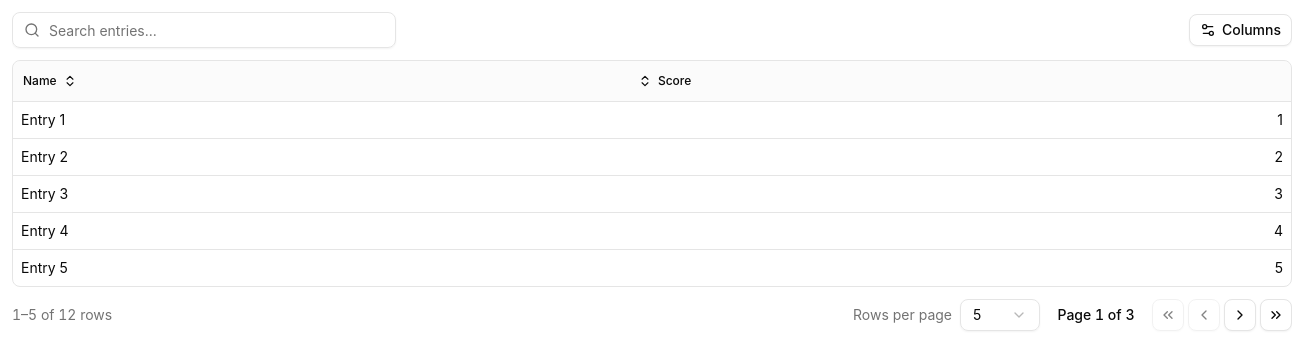
DataTable › paginates without rendering the full data set
Expected: the number of rows is 6, [13,61,1291,101]; [13,101,1291,138]; [13,138,1291,175]; [13,175,1291,212]; [13,212,1291,249]; [13,249,1291,286]
Expected: the text "1–5 of 12 rows" is shown, [12,304,112,324]
Click the button named "Go to next page" at (1240, 314), box [1224,298,1256,330]
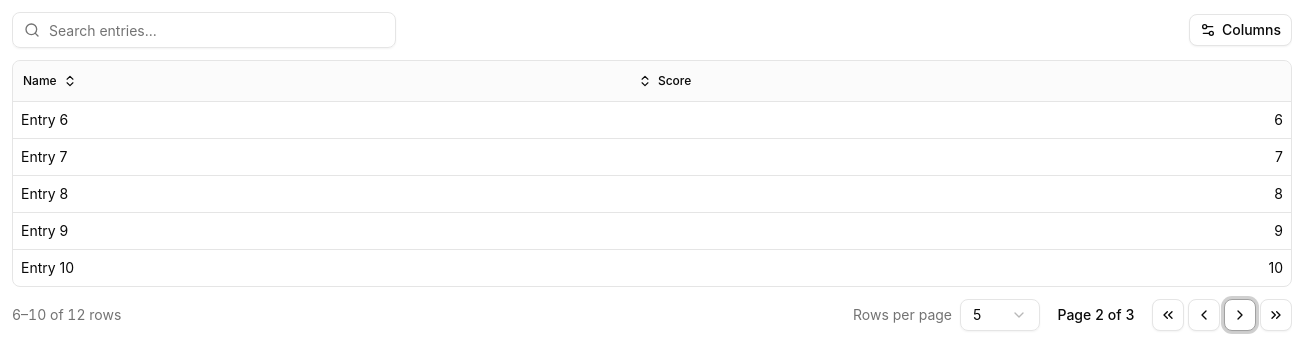
Expected: the text "6–10 of 12 rows" is shown, [12,304,121,324]
Expected: the text "Entry 6" is shown, [13,101,620,138]
